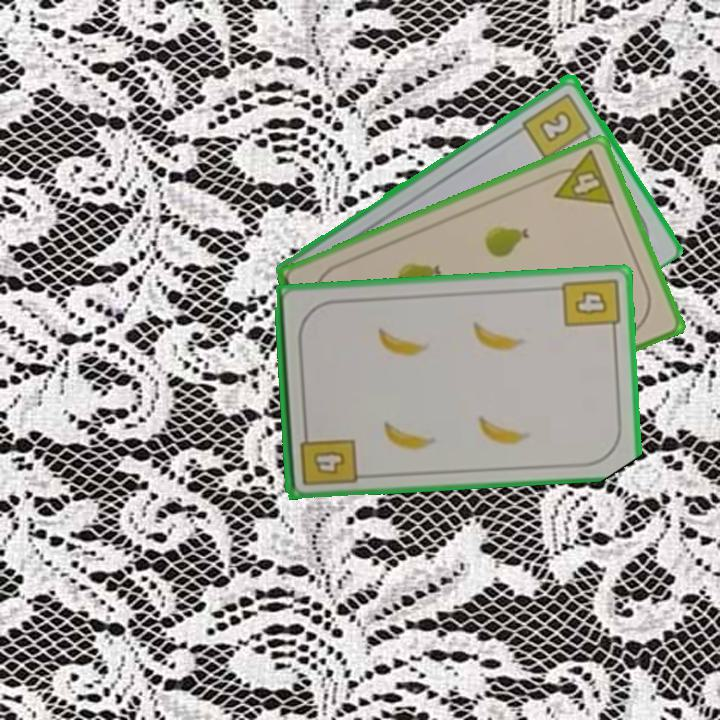2b: (519, 89, 597, 162)
4b: (296, 423, 359, 489), (559, 274, 622, 338)
4p: (543, 147, 618, 209)
